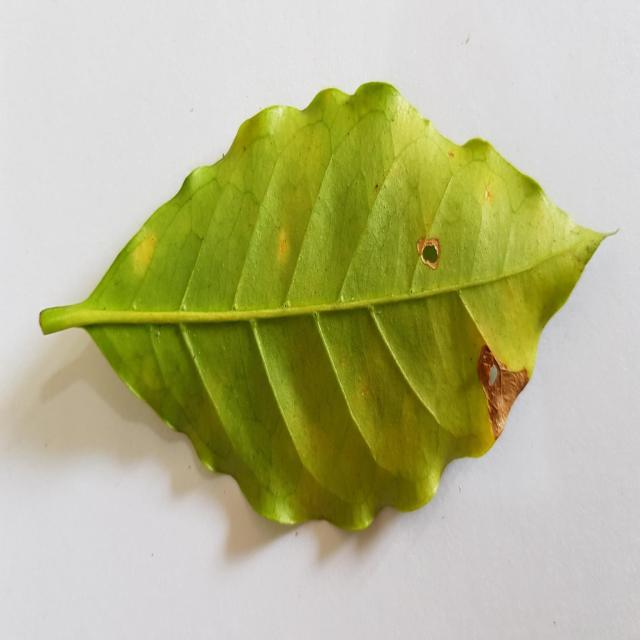Plaga-Minador: (38, 82, 618, 536)
